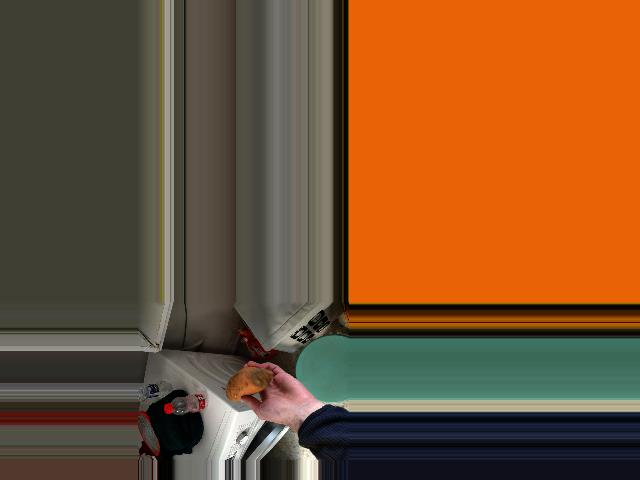sweet_potato: (226, 367, 266, 399)
